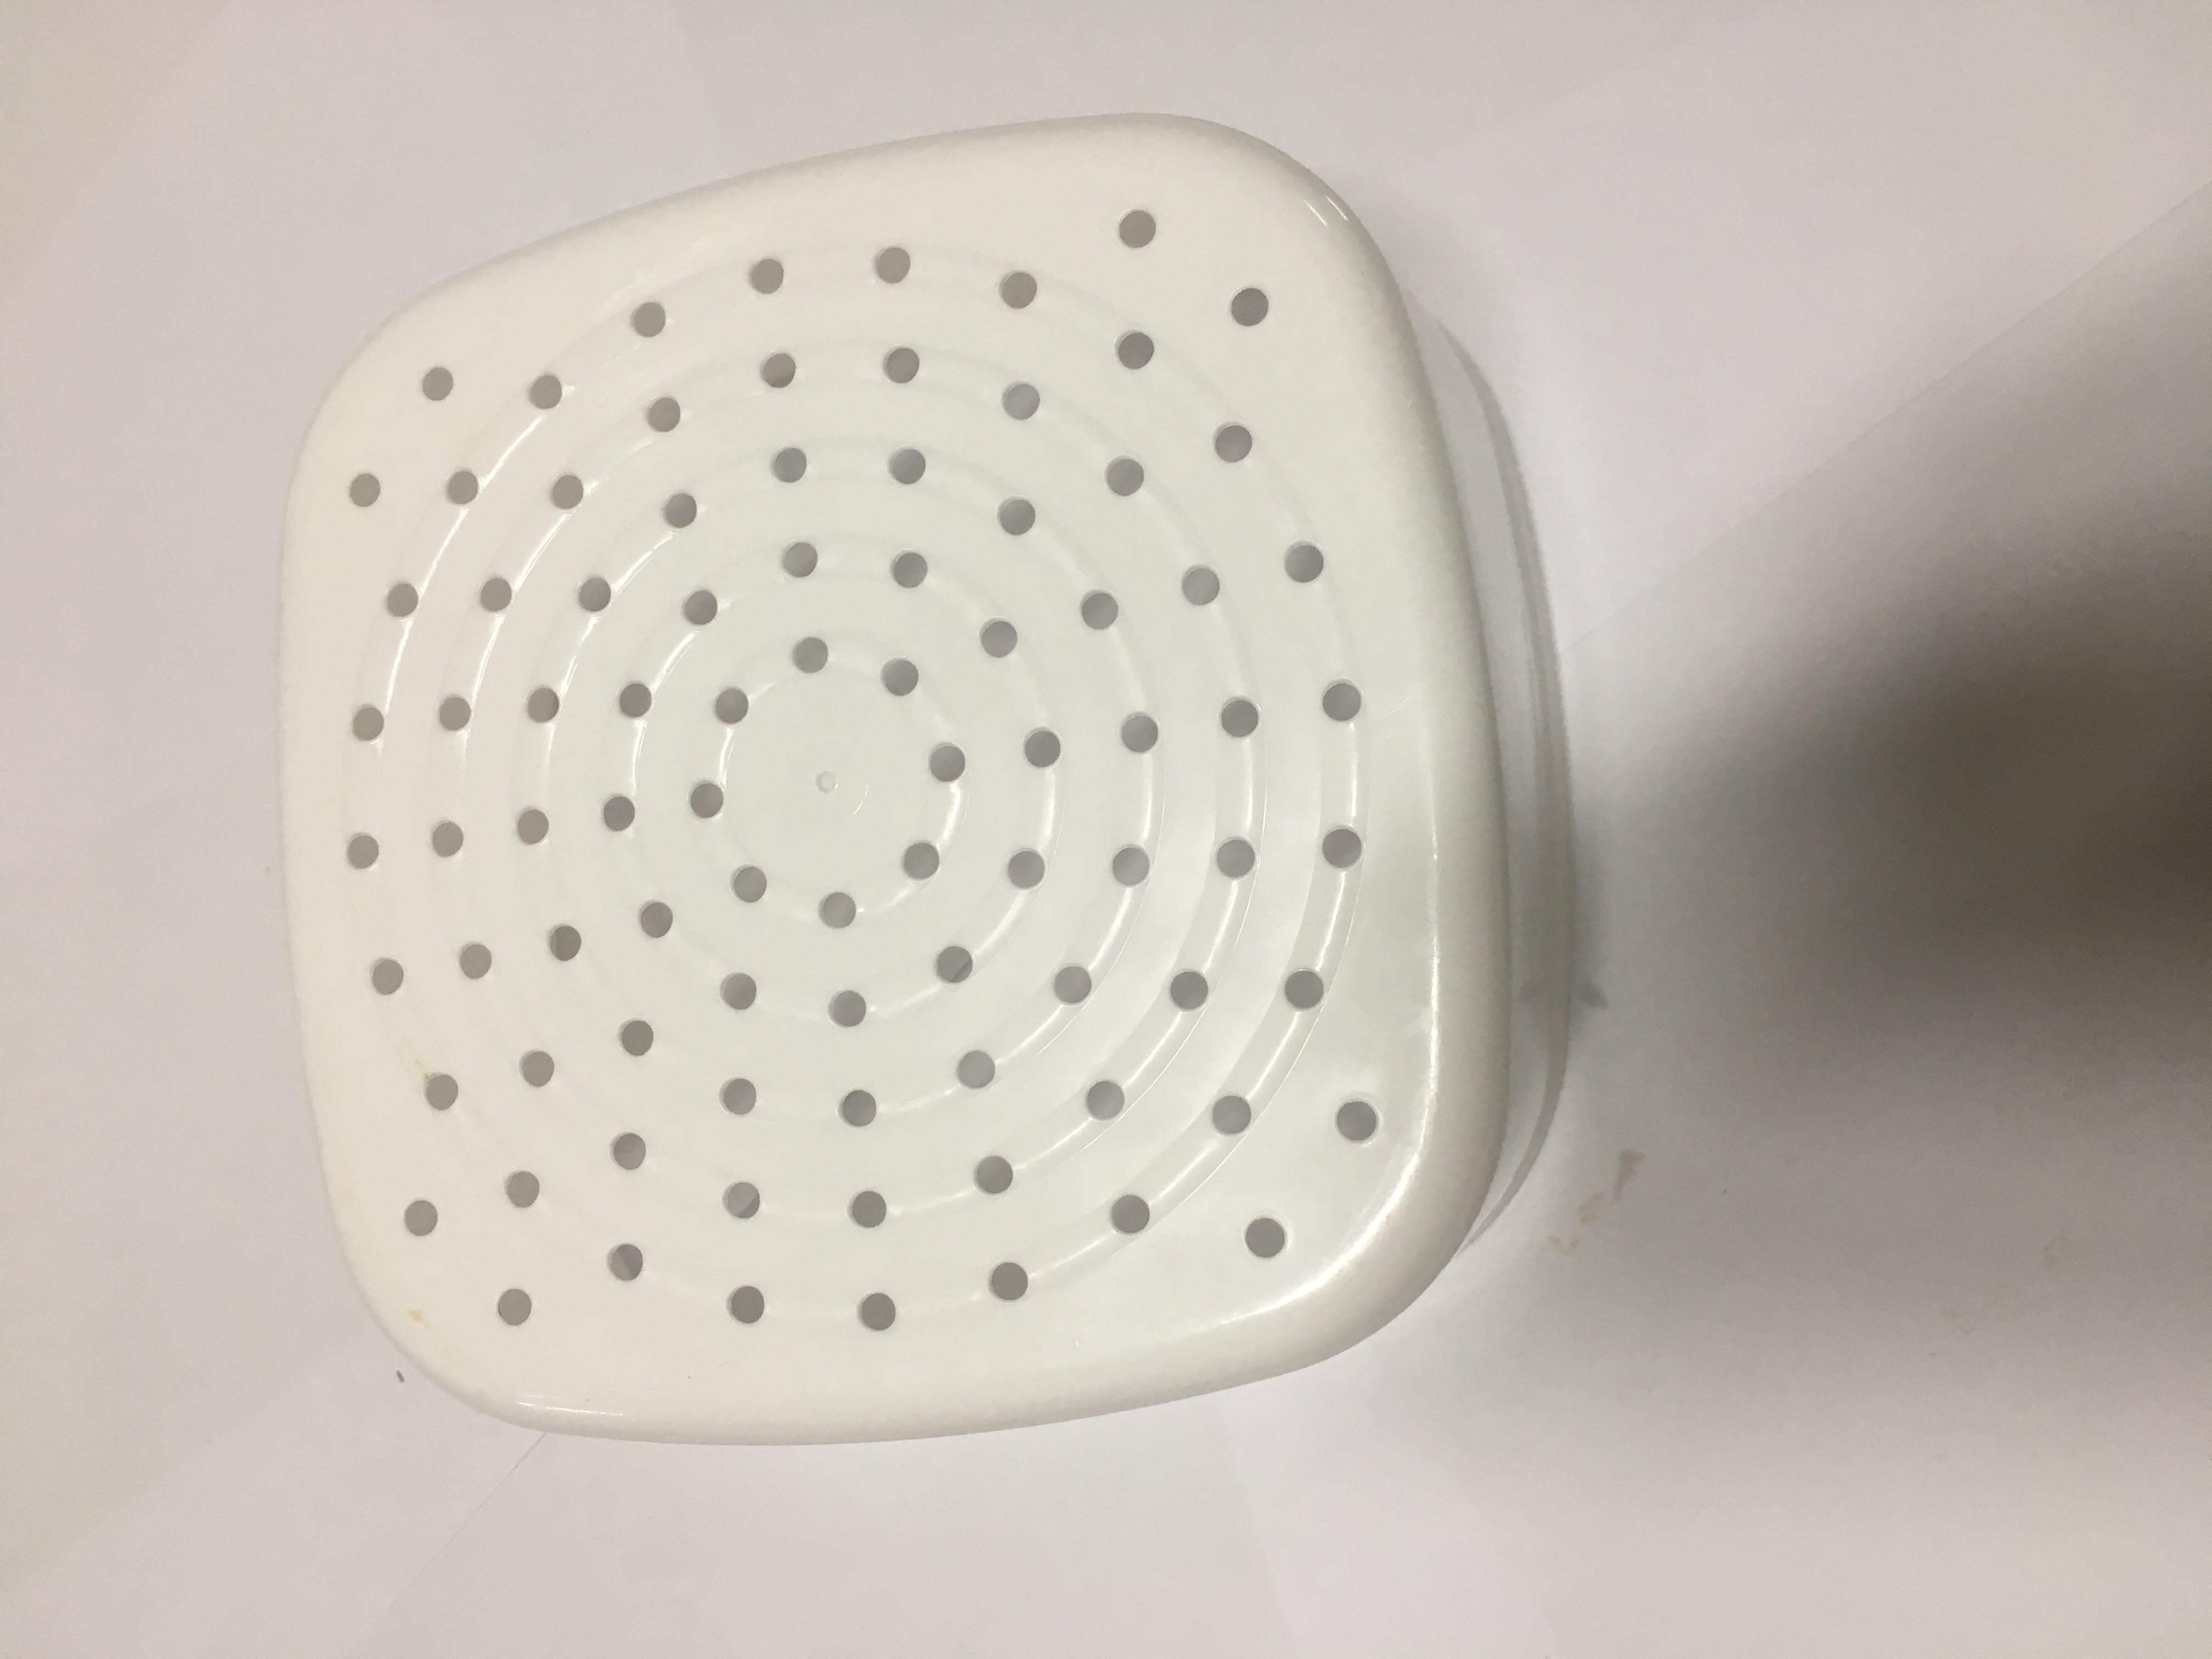bottle: (1115, 115, 1259, 1234)
